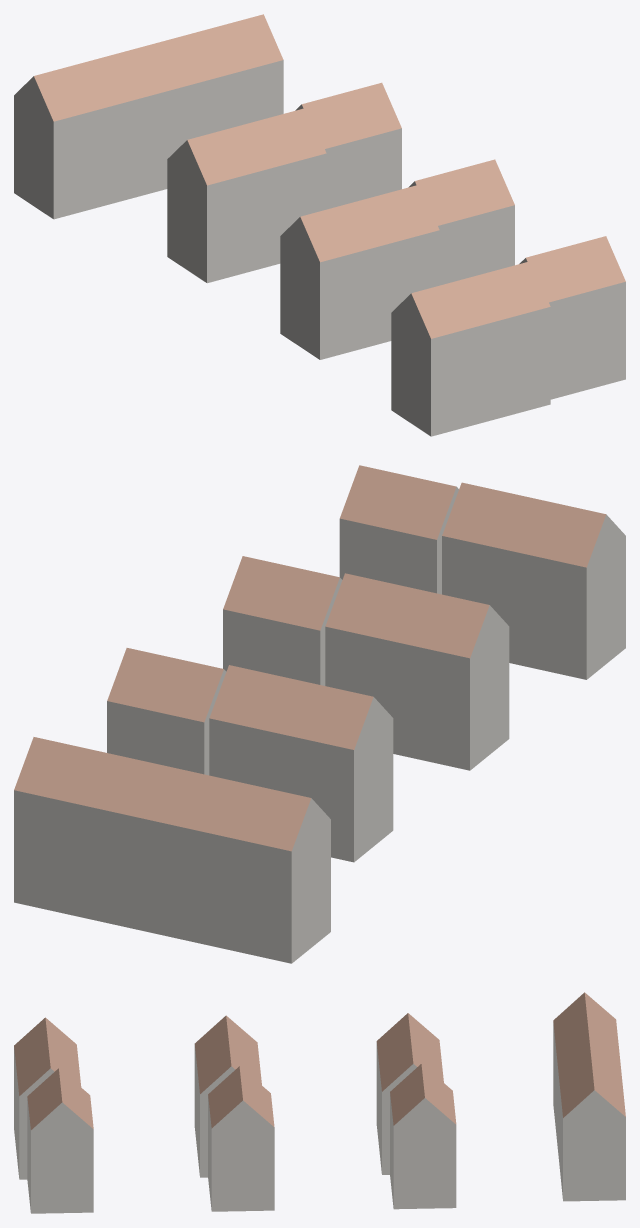
The model's file is gridID_88.dae.
The picture shows the model from 3 angles, top to bottom: view 1: azimuth 30°, elevation 25°; view 2: azimuth 150°, elevation 25°; view 3: azimuth 270°, elevation 25°; orthographic projection. The views are drawn at different scales.
Visible parts, largest first — view 1: model_gridID_88_w383801391, model_gridID_88_w383801396_001, model_gridID_88_w383801398, model_gridID_88_w383801395_001, model_gridID_88_w383801396, model_gridID_88_w383801397, model_gridID_88_w383801395; view 2: model_gridID_88_w383801391, model_gridID_88_w383801395_001, model_gridID_88_w383801396_001, model_gridID_88_w383801398, model_gridID_88_w383801395, model_gridID_88_w383801396, model_gridID_88_w383801397; view 3: model_gridID_88_w383801391, model_gridID_88_w383801396, model_gridID_88_w383801395, model_gridID_88_w383801397, model_gridID_88_w383801395_001, model_gridID_88_w383801396_001, model_gridID_88_w383801398.
Part boxes in pixels (x1,y1,x2,y2): model_gridID_88_w383801391: (14,14,283,219); model_gridID_88_w383801396_001: (391,261,550,436); model_gridID_88_w383801398: (167,107,326,283); model_gridID_88_w383801395_001: (280,184,439,359); model_gridID_88_w383801396: (519,236,625,399); model_gridID_88_w383801397: (295,82,401,209); model_gridID_88_w383801395: (408,159,514,285); model_gridID_88_w383801391: (14,737,330,963); model_gridID_88_w383801395_001: (325,573,509,770); model_gridID_88_w383801396_001: (442,482,625,679); model_gridID_88_w383801398: (209,665,393,862); model_gridID_88_w383801395: (223,556,342,685); model_gridID_88_w383801396: (339,465,458,594); model_gridID_88_w383801397: (107,648,226,775); model_gridID_88_w383801391: (553,992,625,1201); model_gridID_88_w383801396: (27,1068,93,1213); model_gridID_88_w383801395: (208,1066,274,1211); model_gridID_88_w383801397: (390,1064,456,1209); model_gridID_88_w383801395_001: (194,1015,261,1177); model_gridID_88_w383801396_001: (14,1017,81,1179); model_gridID_88_w383801398: (376,1013,443,1174).
Size of the model in its own units: 43.06 by 100 by 20.
